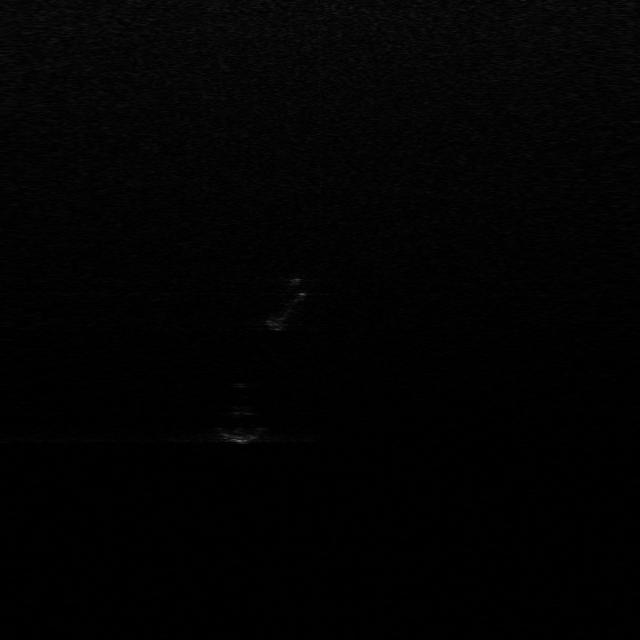ball: (214, 402, 270, 446)
tyre: (267, 274, 307, 330)
